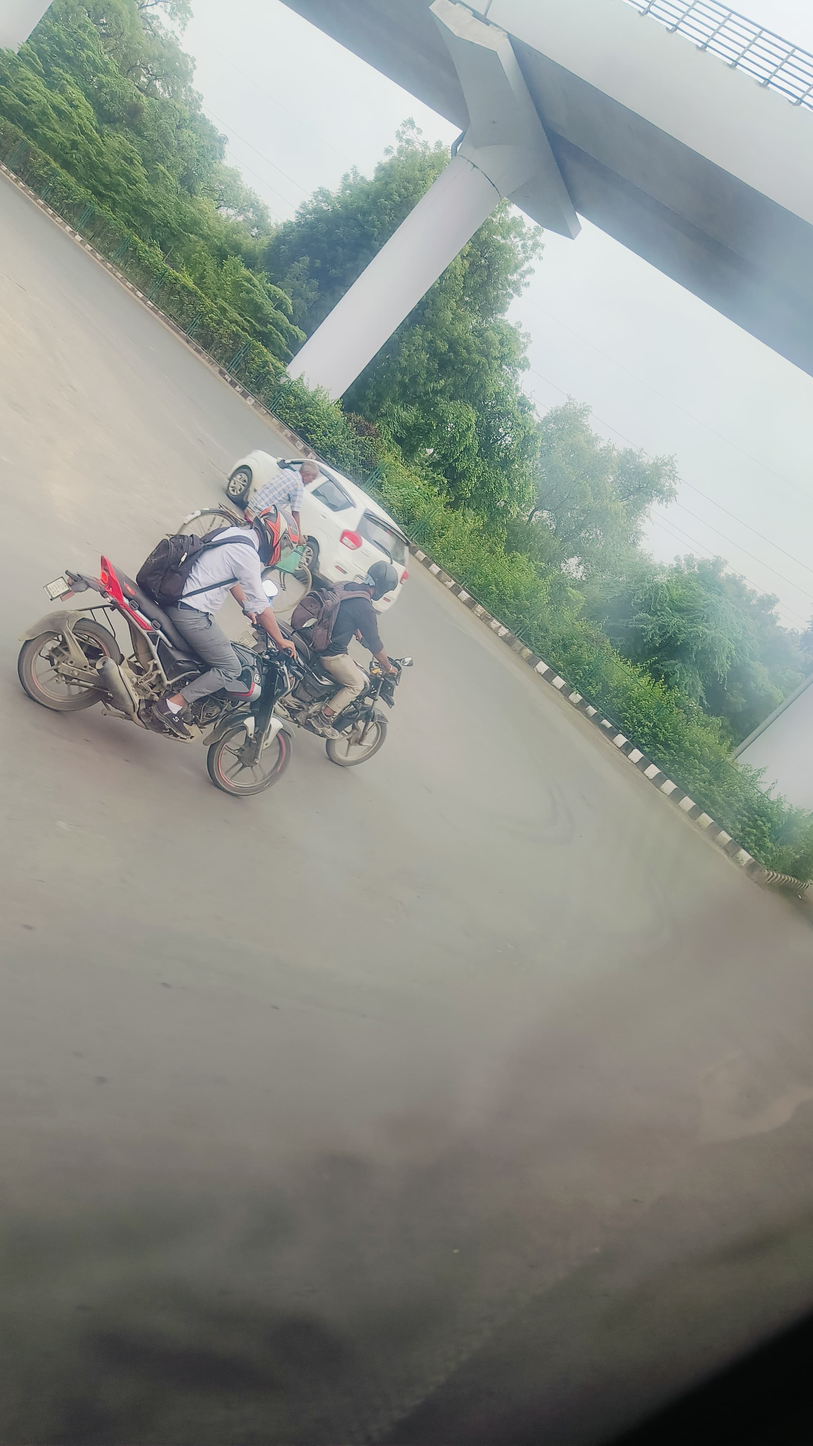BikeWithRider: (12, 496, 308, 811), (220, 548, 419, 775)
Helmet: (242, 498, 309, 568), (361, 556, 401, 603)
